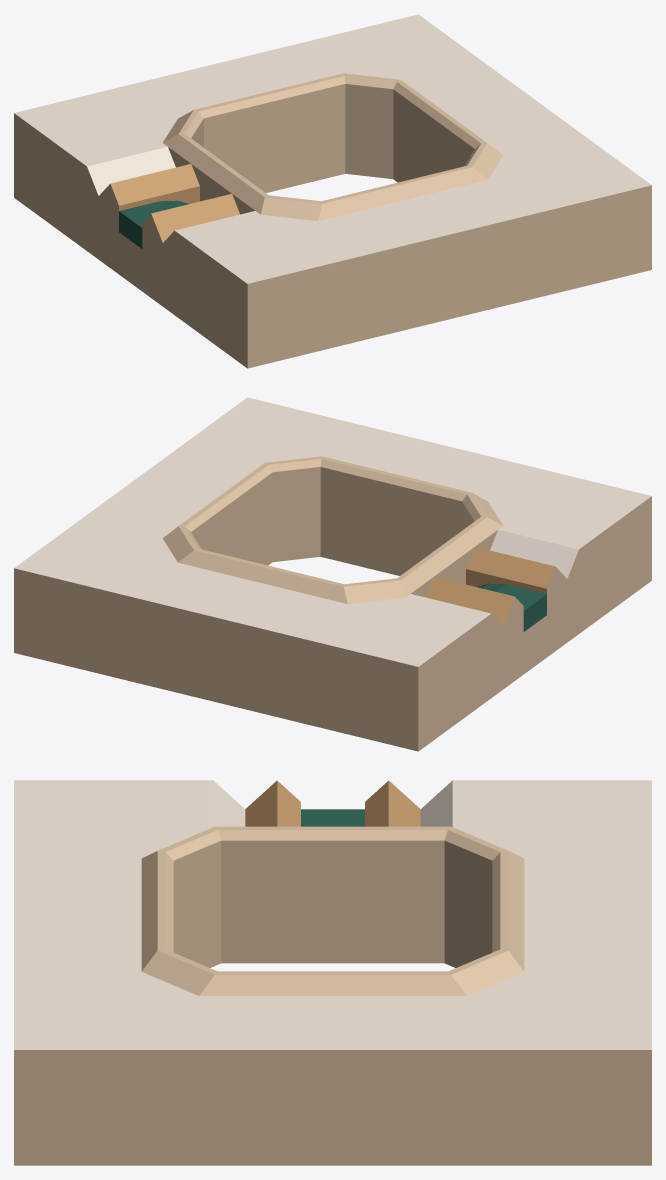
The model's file is Puzzle_Floor_Conduit_Control_Housing_End.fbx.
3 renders of one model, top to bottom at view 1: azimuth 30°, elevation 25°; view 2: azimuth 150°, elevation 25°; view 3: azimuth 270°, elevation 25°, orthographic. The views are drawn at different scales.
Parts seen in each view (by area): view 1: Sandstone_Trim.Sandstone_Trim.Sandstone_Trim.object2, Sandstone_Floor.Sandstone_Floor, Sandstone_5, object1; view 2: Sandstone_Trim.Sandstone_Trim.Sandstone_Trim.object2, Sandstone_Floor.Sandstone_Floor, Sandstone_5, object1; view 3: Sandstone_Trim.Sandstone_Trim.Sandstone_Trim.object2, Sandstone_Floor.Sandstone_Floor, Sandstone_5, object1.
Part boxes in pixels (bbox=[...]): Sandstone_Trim.Sandstone_Trim.Sandstone_Trim.object2: bbox=[14, 73, 651, 368]; Sandstone_Floor.Sandstone_Floor: bbox=[14, 14, 651, 283]; Sandstone_5: bbox=[110, 164, 239, 242]; object1: bbox=[119, 200, 188, 248]; Sandstone_Trim.Sandstone_Trim.Sandstone_Trim.object2: bbox=[14, 456, 651, 751]; Sandstone_Floor.Sandstone_Floor: bbox=[14, 397, 651, 666]; Sandstone_5: bbox=[426, 547, 555, 625]; object1: bbox=[477, 583, 546, 631]; Sandstone_Trim.Sandstone_Trim.Sandstone_Trim.object2: bbox=[14, 826, 651, 1165]; Sandstone_Floor.Sandstone_Floor: bbox=[14, 780, 651, 1049]; Sandstone_5: bbox=[245, 780, 420, 826]; object1: bbox=[301, 809, 364, 826].
Bounding box in the file's own units: 1 × 0.225 × 1.
